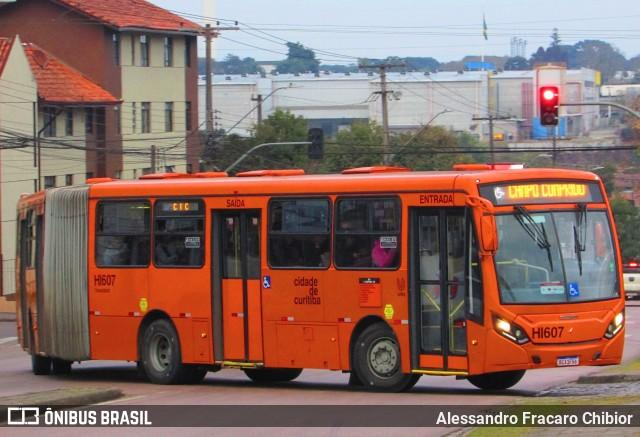CAMPO COMPRIDO: (505, 181, 588, 201)
